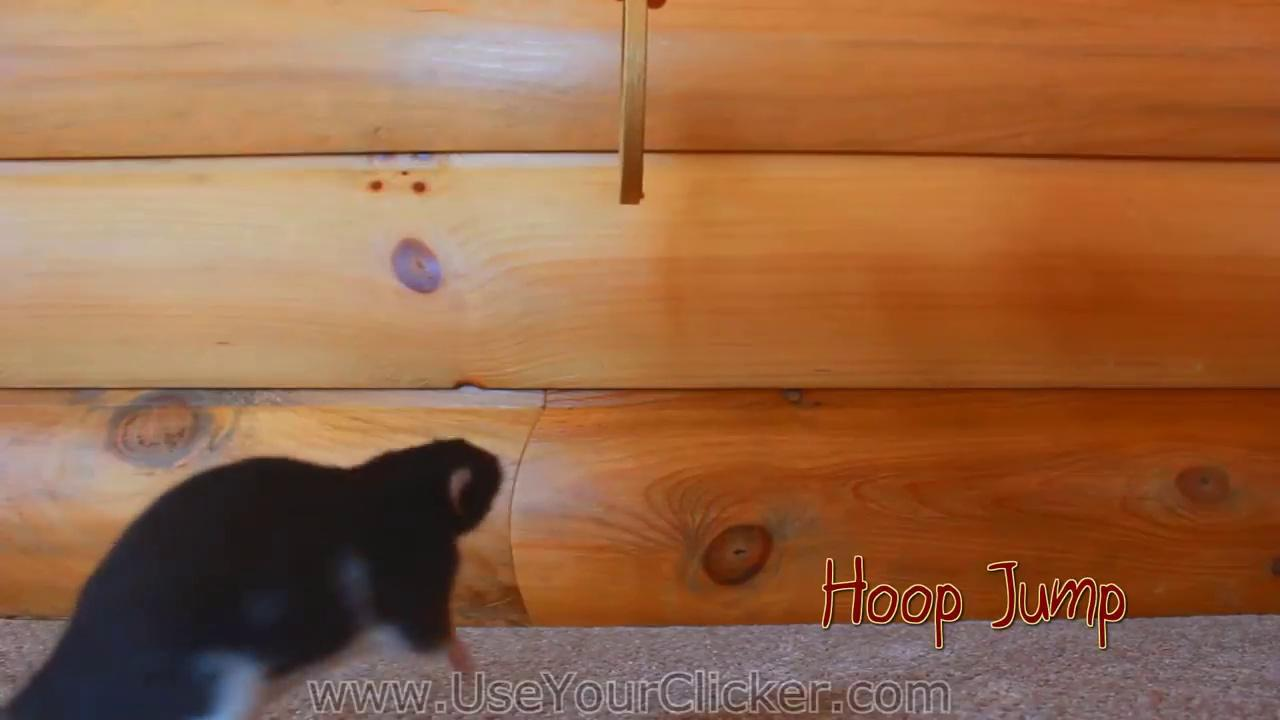rat: (0, 437, 504, 720)
